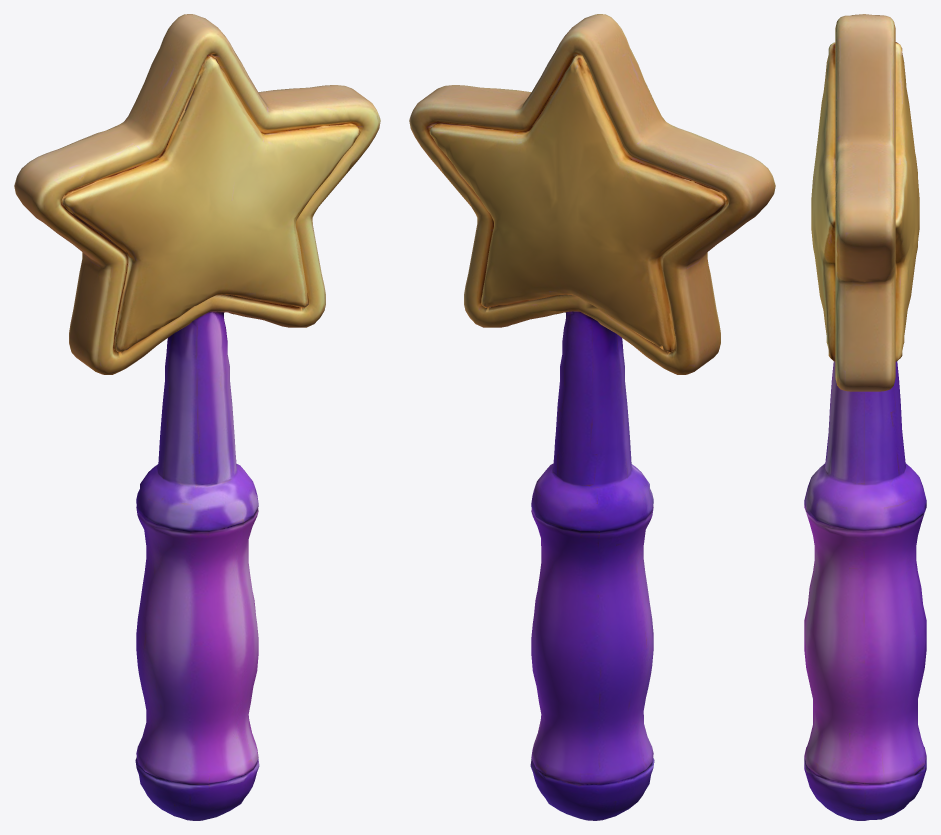
File: wand.glb
The picture shows the model from 3 angles, left to right: view 1: azimuth 30°, elevation 25°; view 2: azimuth 150°, elevation 25°; view 3: azimuth 270°, elevation 25°; orthographic projection.
Parts seen in each view (by area): view 1: tripo_node_03473201-7104-4f28-8842-5f0b74c51ef3; view 2: tripo_node_03473201-7104-4f28-8842-5f0b74c51ef3; view 3: tripo_node_03473201-7104-4f28-8842-5f0b74c51ef3.
Boxes of the visible parts, <box> form: tripo_node_03473201-7104-4f28-8842-5f0b74c51ef3: <box>14,14,380,820</box>; tripo_node_03473201-7104-4f28-8842-5f0b74c51ef3: <box>409,14,775,820</box>; tripo_node_03473201-7104-4f28-8842-5f0b74c51ef3: <box>804,14,926,820</box>.
Size of the model in its own units: 0.4459 by 0.978 by 0.1359.
1 material, 1 textured.
